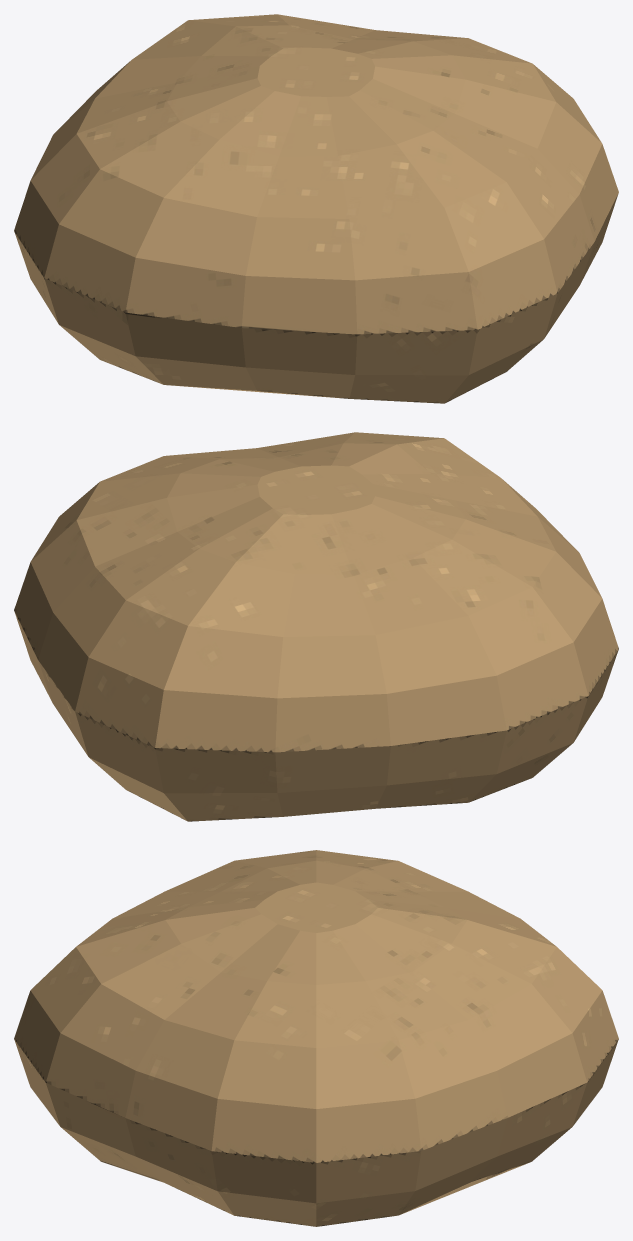
File: Blob.fbx
The picture shows the model from 3 angles, top to bottom: view 1: azimuth 30°, elevation 25°; view 2: azimuth 150°, elevation 25°; view 3: azimuth 270°, elevation 25°; orthographic projection. The views are drawn at different scales.
Parts seen in each view (by area): view 1: Blob; view 2: Blob; view 3: Blob.
Boxes of the visible parts, x1,y1,x2,y2 form: Blob: (14, 14, 618, 403); Blob: (14, 432, 618, 821); Blob: (14, 850, 618, 1226).
Bounding box in the file's own units: 230 × 100 × 236.
Materials: 1 (1 with a texture image).
